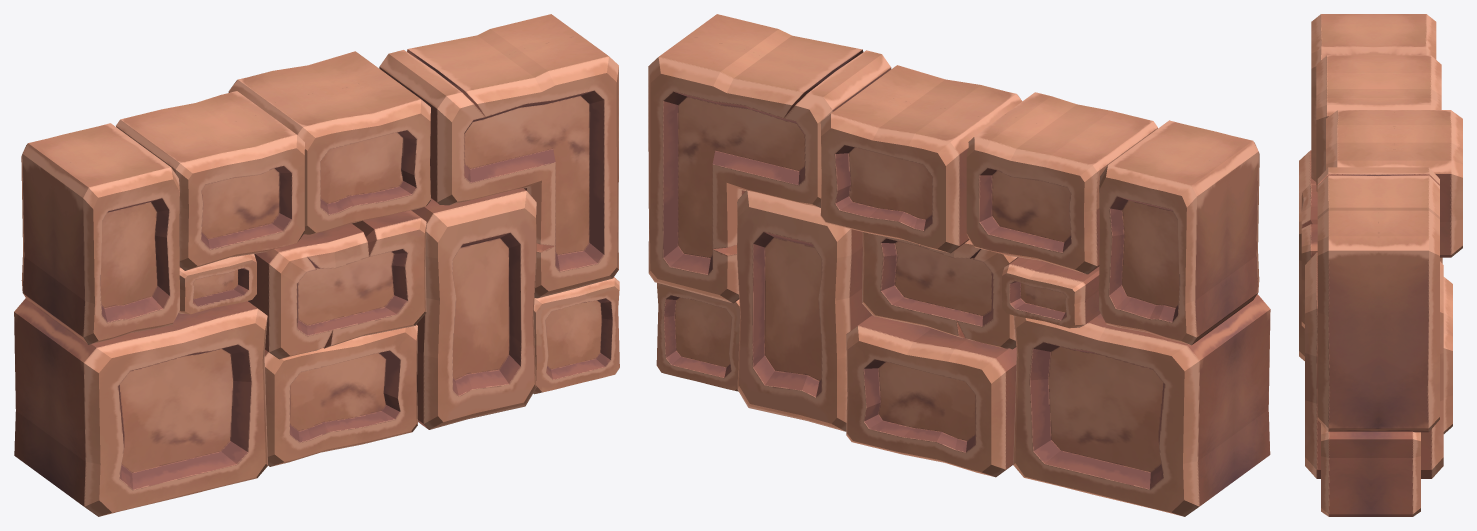
Rendered from HalfWallNoPillar.fbx.
The picture shows the model from 3 angles, left to right: view 1: azimuth 30°, elevation 25°; view 2: azimuth 150°, elevation 25°; view 3: azimuth 270°, elevation 25°; orthographic projection. The views are drawn at different scales.
Visible parts, largest first — view 1: HalfWallNoPillar; view 2: HalfWallNoPillar; view 3: HalfWallNoPillar.
Part boxes in pixels (box(x1,y1,x2,y2)): HalfWallNoPillar: box(14, 14, 619, 516); HalfWallNoPillar: box(648, 14, 1270, 516); HalfWallNoPillar: box(1299, 14, 1462, 516).
Size of the model in its own units: 1.88 by 1.08 by 0.5628.
